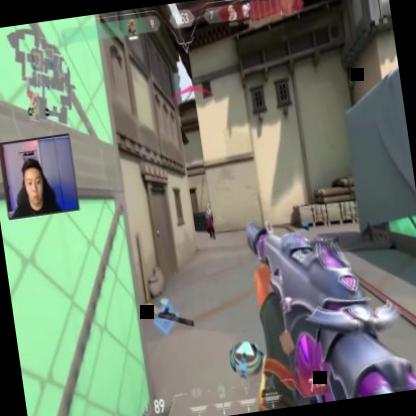enemy: (204, 204, 216, 238)
enemy_head: (206, 204, 210, 210)
